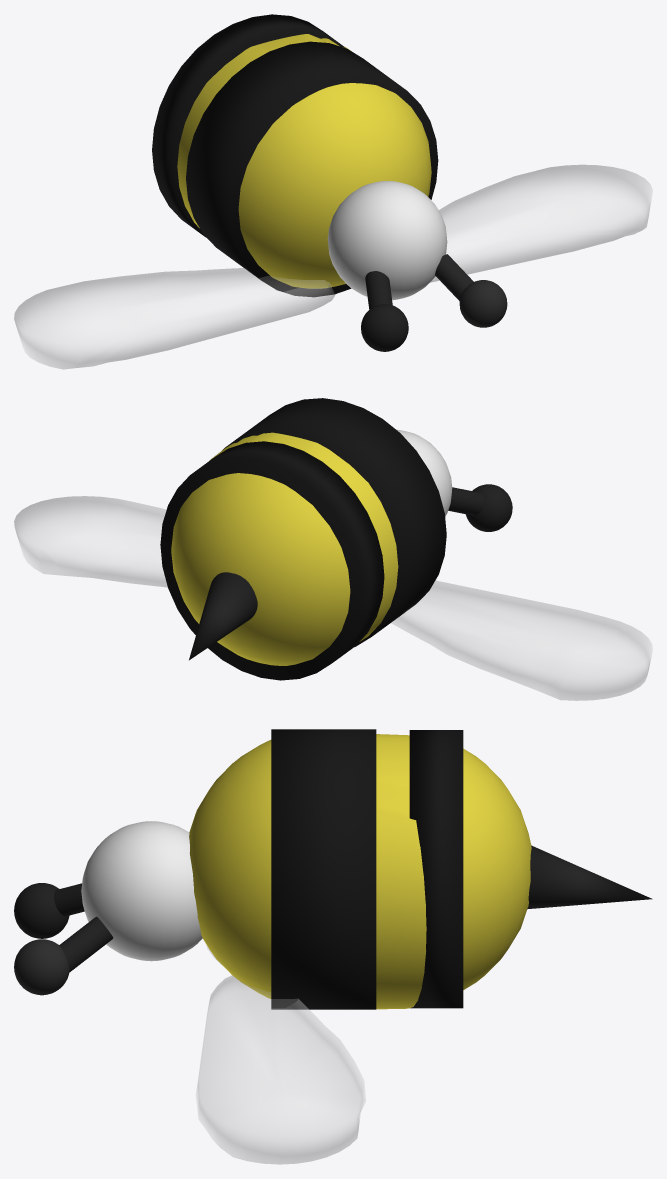
Rendered from asset.glb.
The picture shows the model from 3 angles, top to bottom: view 1: azimuth 30°, elevation 25°; view 2: azimuth 150°, elevation 25°; view 3: azimuth 270°, elevation 25°; orthographic projection. The views are drawn at different scales.
Visible parts, largest first — view 1: stripe1, wing, Cylinder, wing.001, Sphere.001, Cylinder.003, Sphere.003, Sphere.002, Cylinder.002, Cylinder.001; view 2: stripe1, wing, Cylinder.003, Cylinder, wing.001, Cone, Sphere.002, Sphere.001, Cylinder.001; view 3: stripe1, Cylinder, wing.001, Sphere.001, Cylinder.003, Cone, Sphere.003, Sphere.002, Cylinder.002, Cylinder.001.
Part boxes in pixels (box(x1,y1,x2,y2)): stripe1: box(177, 34, 431, 288); wing: box(14, 268, 334, 369); Cylinder: box(186, 41, 438, 297); wing.001: box(430, 165, 652, 282); Sphere.001: box(327, 181, 447, 300); Cylinder.003: box(152, 14, 344, 237); Sphere.003: box(459, 280, 507, 327); Sphere.002: box(361, 304, 408, 351); Cylinder.002: box(435, 254, 473, 300); Cylinder.001: box(365, 271, 392, 309); stripe1: box(171, 432, 398, 665); wing: box(391, 580, 652, 700); Cylinder.003: box(160, 441, 384, 680); Cylinder: box(222, 398, 446, 646); wing.001: box(14, 496, 167, 587); Cone: box(189, 572, 257, 660); Sphere.002: box(466, 484, 512, 531); Sphere.001: box(396, 429, 452, 516); Cylinder.001: box(448, 487, 484, 515); stripe1: box(189, 734, 531, 1009); Cylinder: box(271, 729, 376, 1009); wing.001: box(196, 975, 365, 1164); Sphere.001: box(81, 821, 202, 961); Cylinder.003: box(409, 730, 463, 1008); Cone: box(527, 845, 652, 909); Sphere.003: box(14, 939, 69, 995); Sphere.002: box(14, 883, 69, 938); Cylinder.002: box(59, 916, 113, 972); Cylinder.001: box(53, 883, 84, 916).
Size of the model in its own units: 1.2 by 0.4004 by 0.9116.
